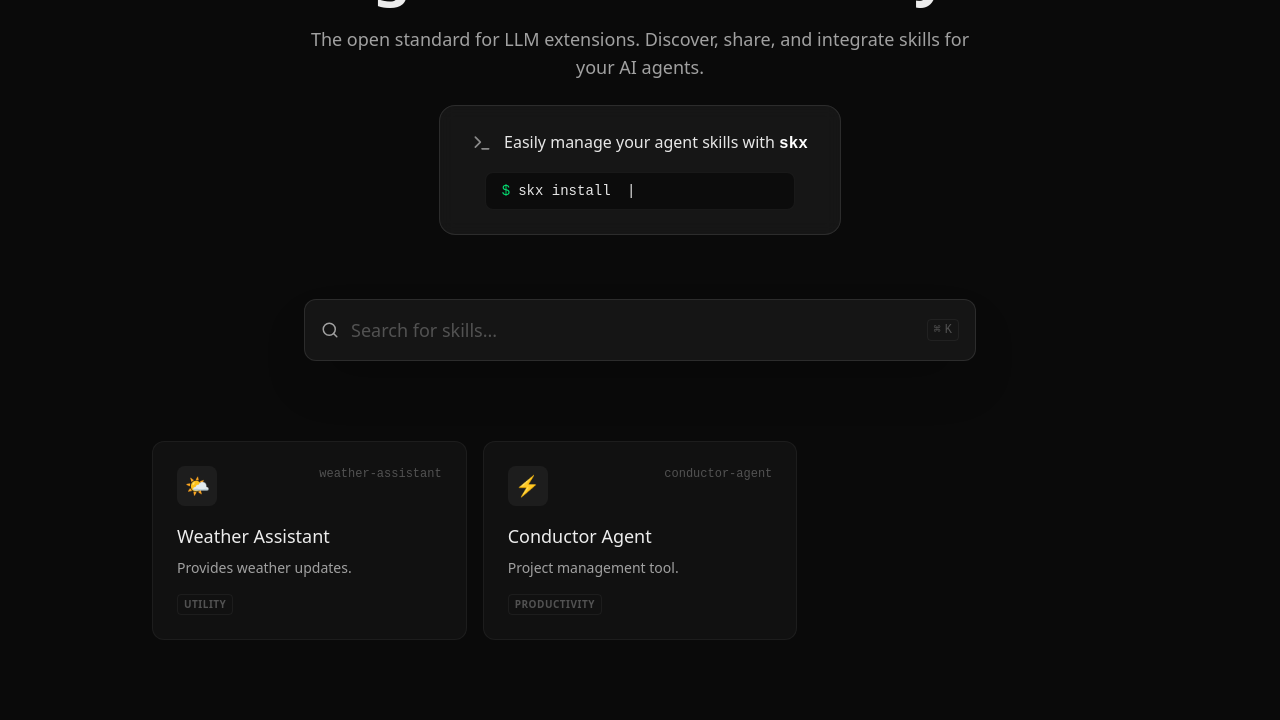
Test case: clicking a skill card opens the detail modal with correct info
The width and height of the screenshot is (1280, 720).
(page scrolled)
Note: Click the card
Click the heading "Weather Assistant". click: (253, 536)
box: [177,524,330,548]
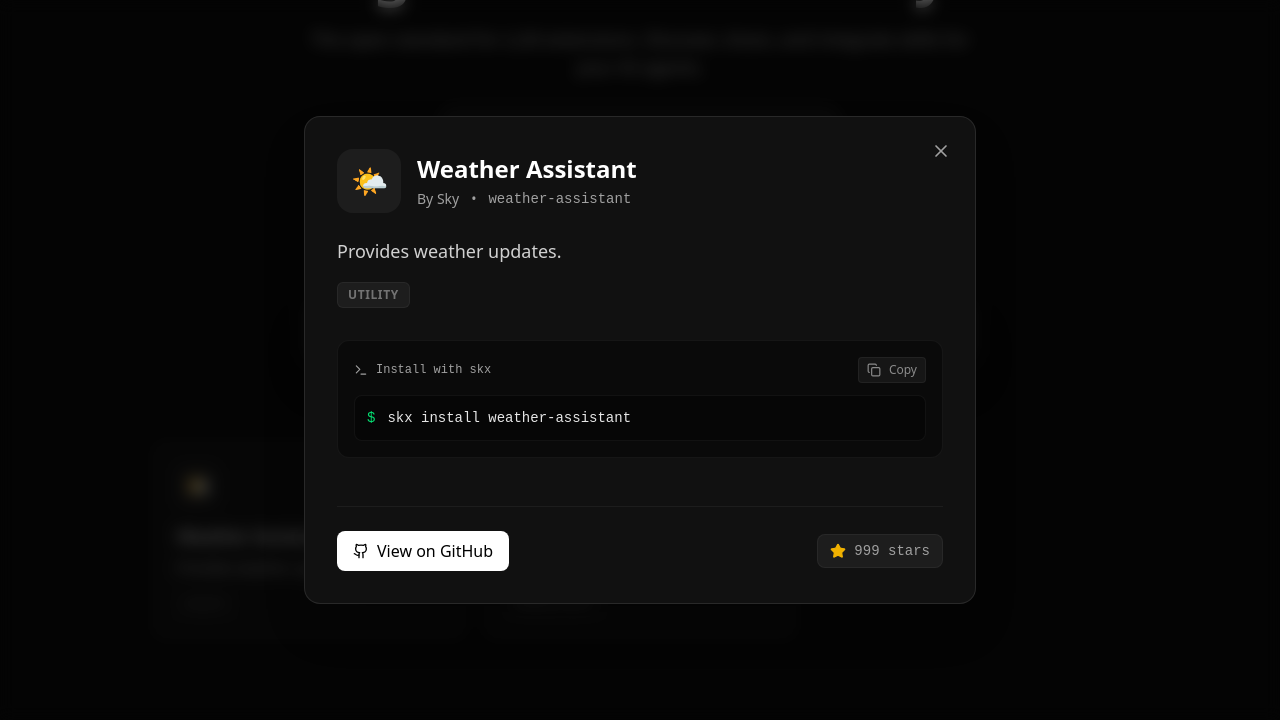
expect the dialog is shown: met
expect the heading "Weather Assistant" is shown: met, box [417,153,637,185]
expect the text "Provides weather updates." is shown: met, box [337,239,562,263]
